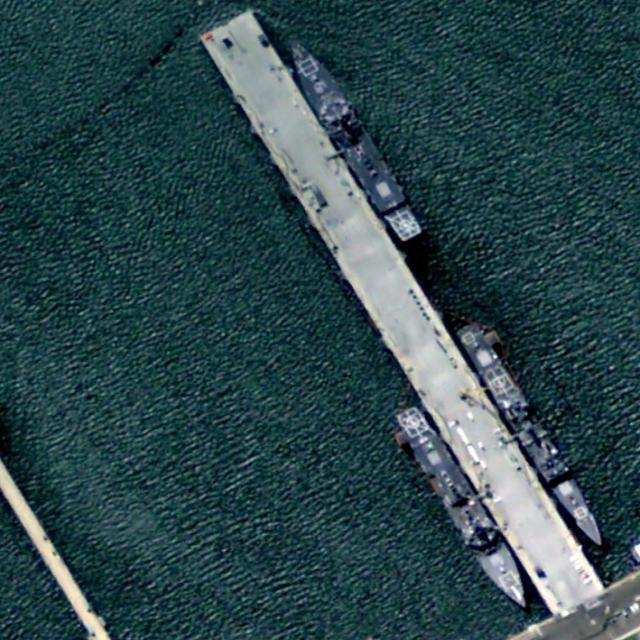Cruiser: (452, 317, 612, 553)
Destroyer: (275, 27, 429, 245), (388, 401, 542, 615)
